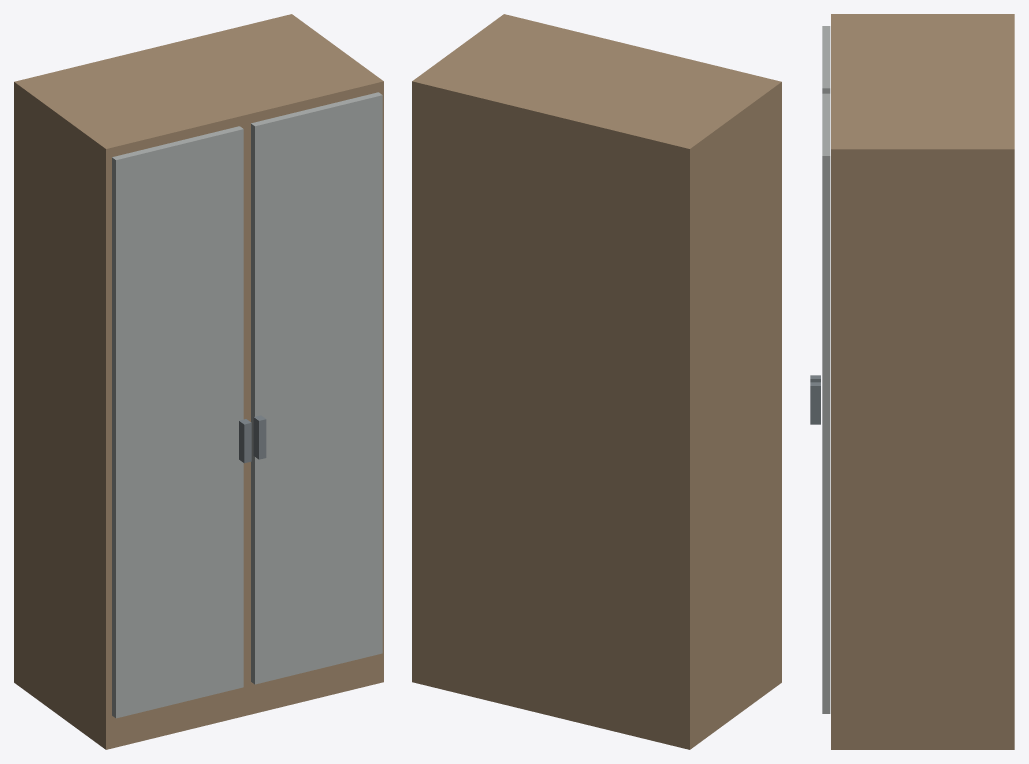
The model's file is STO-003.glb.
3 views of the same model, side by side, from view 1: azimuth 30°, elevation 25°; view 2: azimuth 150°, elevation 25°; view 3: azimuth 270°, elevation 25° (orthographic).
Visible parts, largest first — view 1: 000_Cabinet_body, 001_Cabinet_door_L, 002_Cabinet_door_R; view 2: 000_Cabinet_body; view 3: 000_Cabinet_body, 002_Cabinet_door_R, 001_Cabinet_door_L, 007_Door_pull.
Boxes of the visible parts, x1,y1,x2,y2 form: 000_Cabinet_body: [14, 14, 383, 749]; 001_Cabinet_door_L: [112, 126, 243, 718]; 002_Cabinet_door_R: [251, 92, 382, 684]; 000_Cabinet_body: [412, 14, 781, 749]; 000_Cabinet_body: [831, 14, 1014, 749]; 002_Cabinet_door_R: [822, 93, 830, 713]; 001_Cabinet_door_L: [822, 26, 830, 93]; 007_Door_pull: [810, 382, 820, 424].
Size of the model in its own units: 0.75 by 1.55 by 0.4785.
